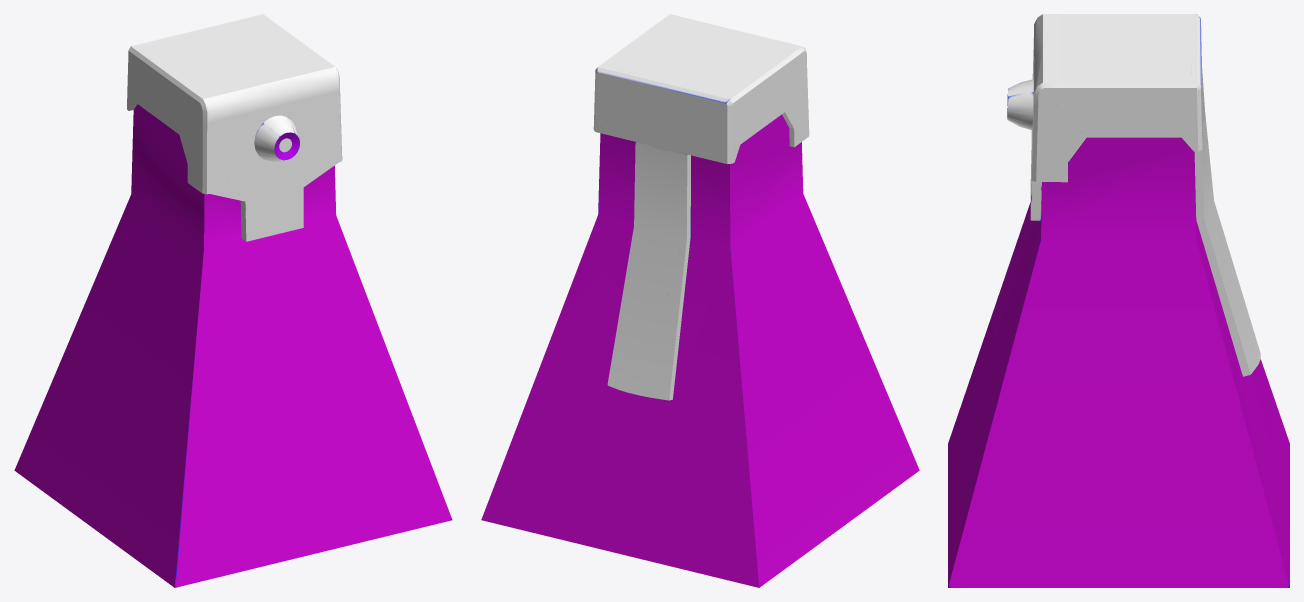
The model's file is potion.glb.
The picture shows the model from 3 angles, left to right: view 1: azimuth 30°, elevation 25°; view 2: azimuth 150°, elevation 25°; view 3: azimuth 270°, elevation 25°; orthographic projection. The views are drawn at different scales.
Parts seen in each view (by area): view 1: Potion; view 2: Potion; view 3: Potion.
Part boxes in pixels (x1,y1,x2,y2): Potion: [14, 14, 452, 587]; Potion: [481, 14, 919, 587]; Potion: [948, 14, 1289, 587].
Size of the model in its own units: 0.03 by 0.0453 by 0.03.
1 material, 1 textured.
